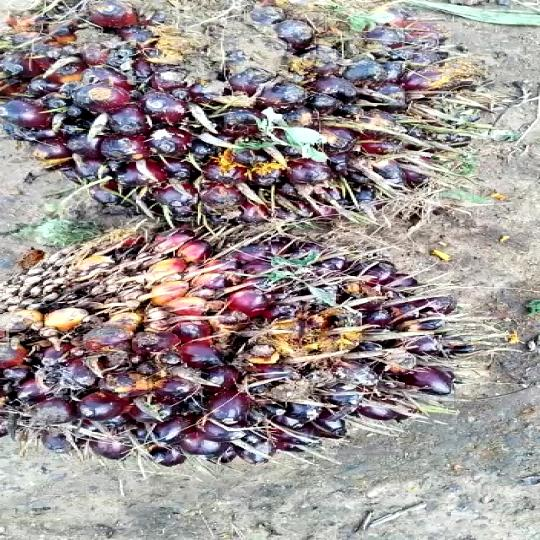kurang masak: (0, 0, 506, 241), (0, 226, 454, 479)
